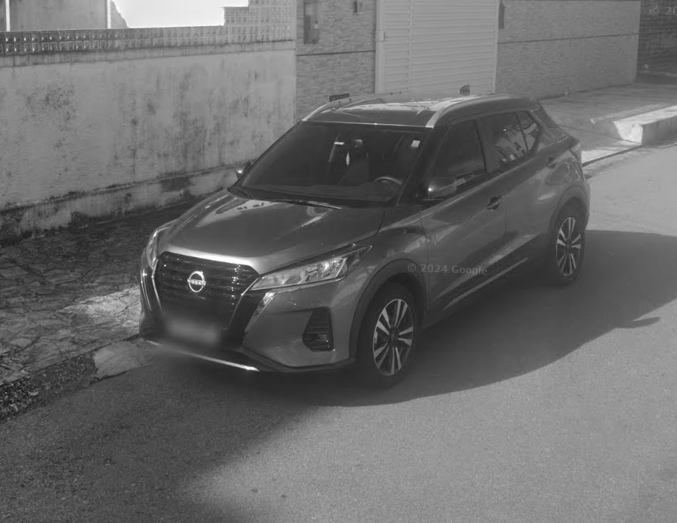car: (133, 82, 596, 391)
